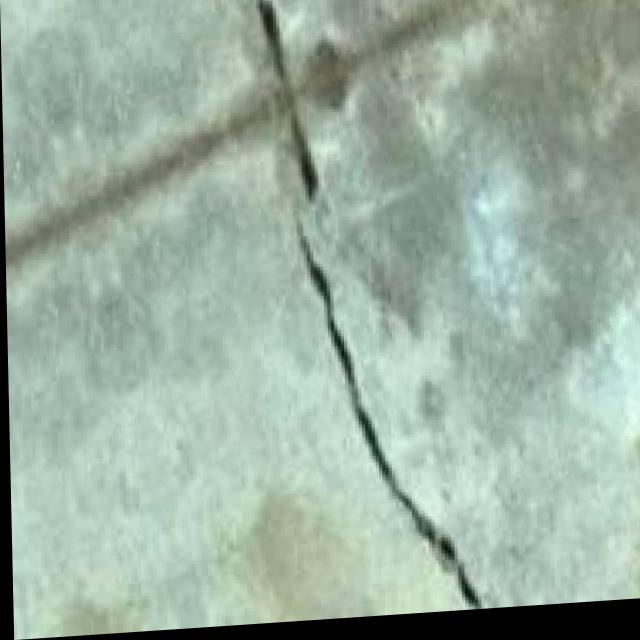Crack: (228, 0, 491, 628)
